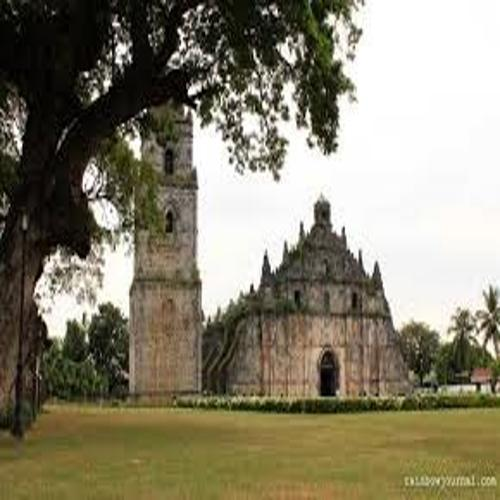Paoay Church: (123, 84, 428, 410)
